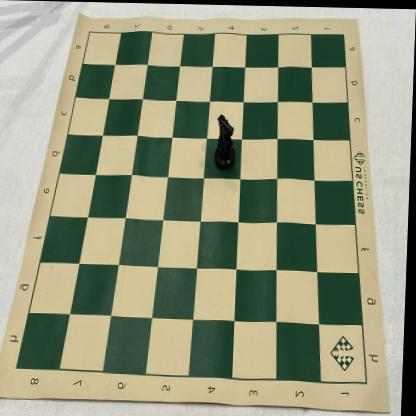black-knight: (214, 114, 238, 170)
